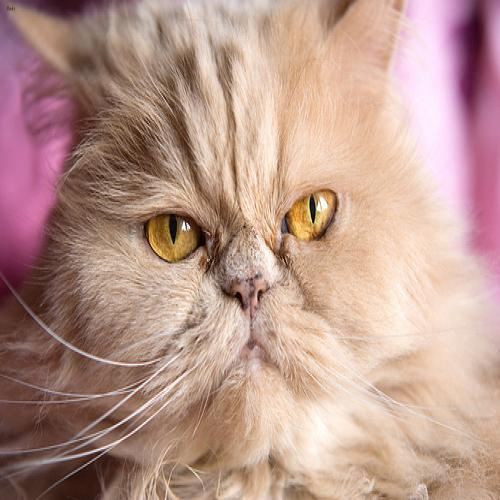persian: (9, 1, 449, 476)
